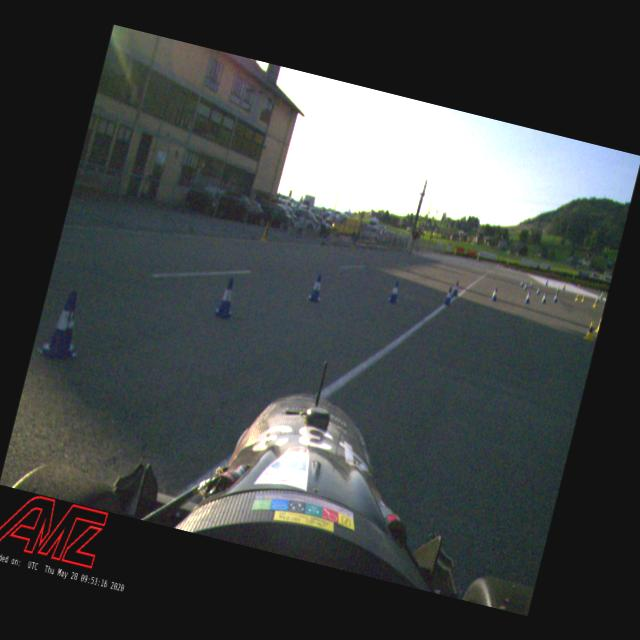blue_cone: (36, 284, 92, 371), (212, 273, 241, 322), (304, 271, 326, 305), (387, 278, 402, 304), (442, 286, 454, 307), (489, 285, 500, 302), (450, 280, 460, 297), (523, 290, 532, 304), (540, 291, 548, 304), (552, 292, 559, 303), (535, 284, 541, 296), (522, 280, 528, 290)
yellow_cone: (583, 320, 597, 340), (260, 220, 272, 243), (594, 315, 602, 333), (580, 294, 586, 304), (592, 298, 598, 308), (574, 293, 579, 302)
